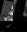recallP: (0, 0, 13, 21)
zombie: (0, 21, 13, 32)
